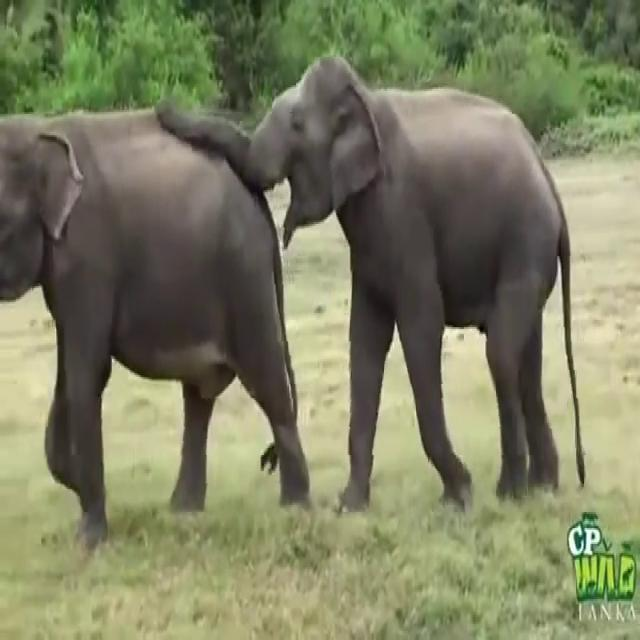Elephant: (155, 52, 586, 516), (0, 101, 311, 553)
